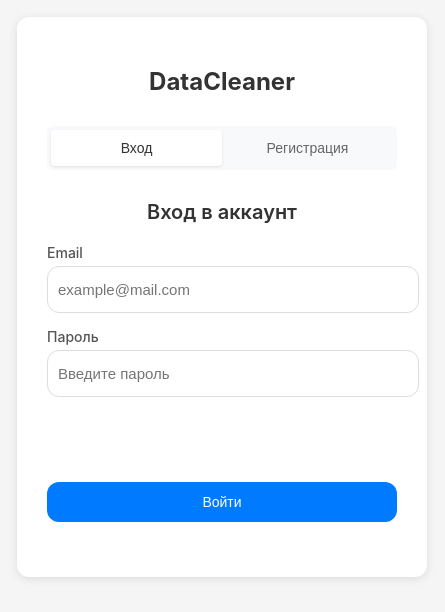
Test: Auth компонент › Ошибки входа › показывает сообщение об ошибке при неверных данных
Type "wrong@test.local" into the field with id "login-email" at (233, 289), box [47,266,419,313]
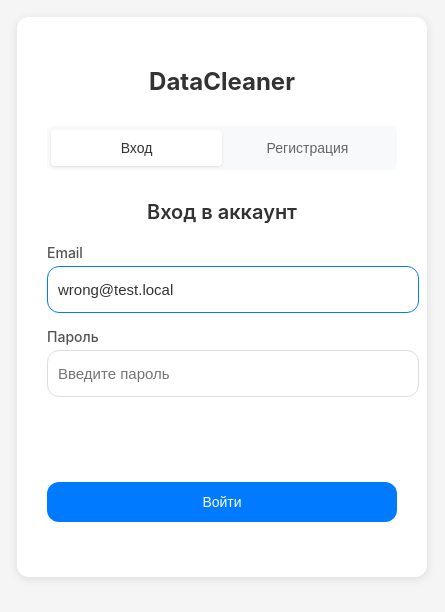
Type "WrongPass!" into the password field with id "login-password" at (233, 373), box [47,350,419,397]
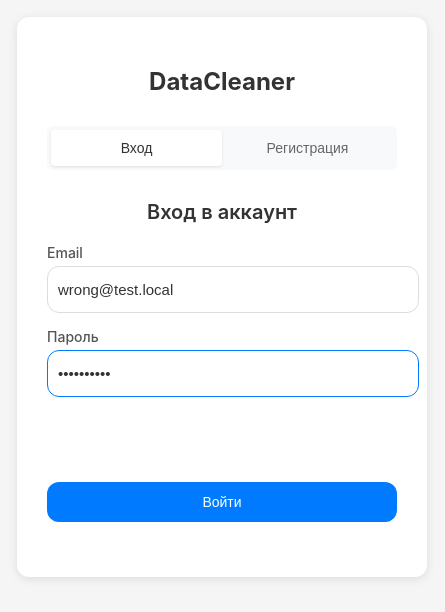
Click the submit button at (222, 502), box [47,482,397,522]
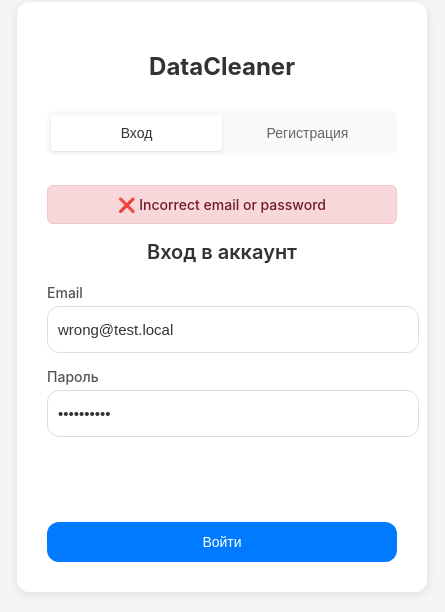
expect the message "❌ Incorrect email or password" is shown: met, box [47,185,397,224]
